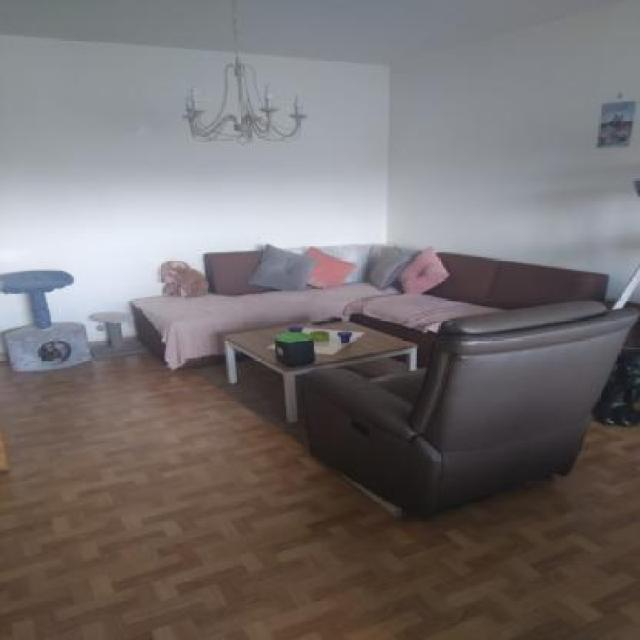floor: (0, 346, 640, 640)
